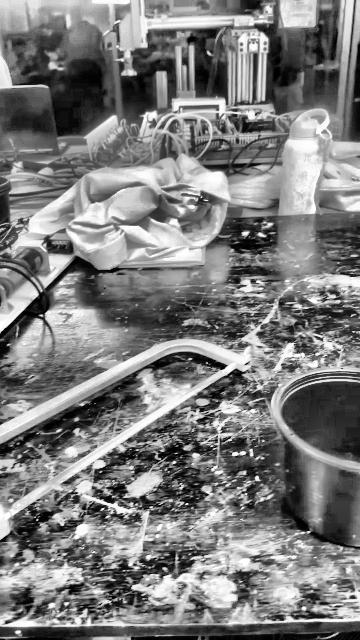pot: (275, 371, 359, 546)
